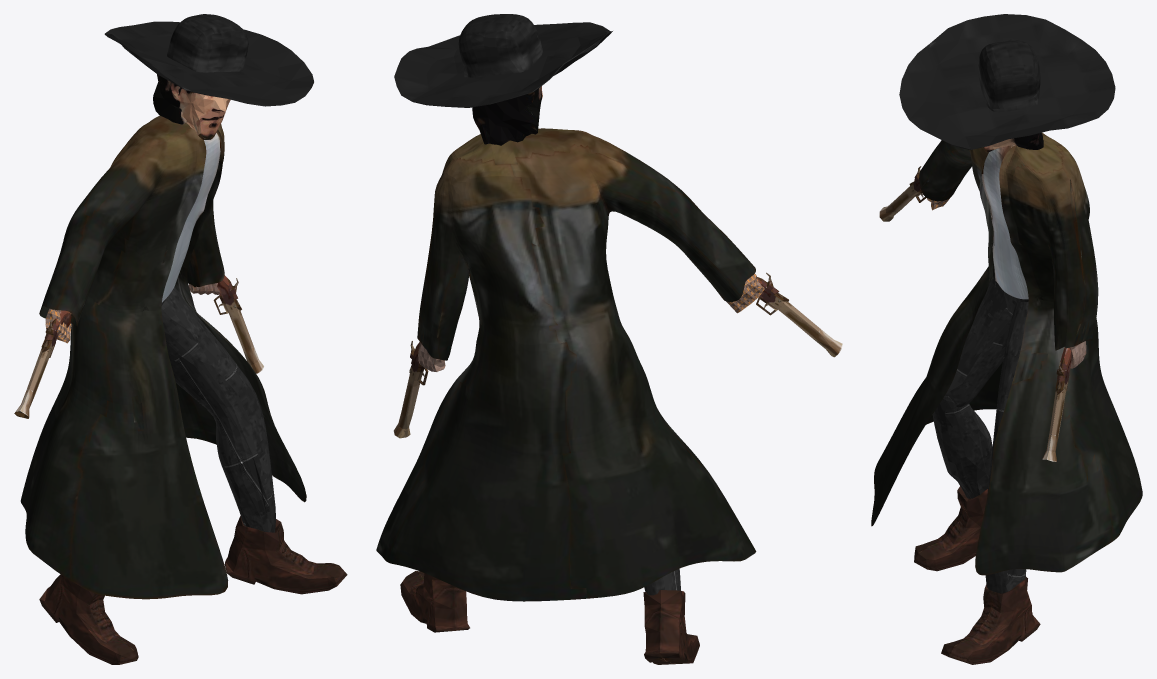
File: Gunslinger (2).dae
3 renders of one model, left to right at view 1: azimuth 30°, elevation 25°; view 2: azimuth 150°, elevation 25°; view 3: azimuth 270°, elevation 25°, orthographic. The views are drawn at different scales.
Visible parts, largest first — view 1: Coat, Cw-HatRim, Legs, Boot, Boot_001, Cw-Head, Gun2, Gun1; view 2: Coat, Cw-HatRim, Boot_001, Boot, Cw-Head, Gun1, Gun2; view 3: Coat, Cw-HatRim, Legs, Boot, Boot_001, Gun2, Gun1, Cw-Head.
Boxes of the visible parts, bbox=[...] form: Coat: bbox=[20, 115, 306, 599]; Cw-HatRim: bbox=[104, 14, 313, 106]; Legs: bbox=[161, 286, 275, 532]; Boot: bbox=[224, 516, 347, 594]; Boot_001: bbox=[39, 574, 138, 664]; Cw-Head: bbox=[153, 74, 230, 139]; Gun2: bbox=[213, 275, 263, 373]; Gun1: bbox=[14, 310, 71, 418]; Coat: bbox=[376, 128, 756, 601]; Cw-HatRim: bbox=[394, 14, 612, 107]; Boot_001: bbox=[643, 590, 699, 664]; Boot: bbox=[400, 571, 469, 632]; Cw-Head: bbox=[472, 86, 542, 145]; Gun1: bbox=[756, 272, 842, 357]; Gun2: bbox=[393, 341, 428, 438]; Coat: bbox=[871, 132, 1142, 575]; Cw-HatRim: bbox=[899, 14, 1115, 149]; Legs: bbox=[932, 279, 1028, 593]; Boot: bbox=[941, 576, 1040, 664]; Boot_001: bbox=[914, 486, 987, 571]; Gun2: bbox=[1042, 347, 1071, 461]; Gun1: bbox=[879, 166, 926, 221]; Cw-Head: bbox=[983, 133, 1043, 151].
Bounding box in the file's own units: 13.61 × 8.8 × 20.71.
